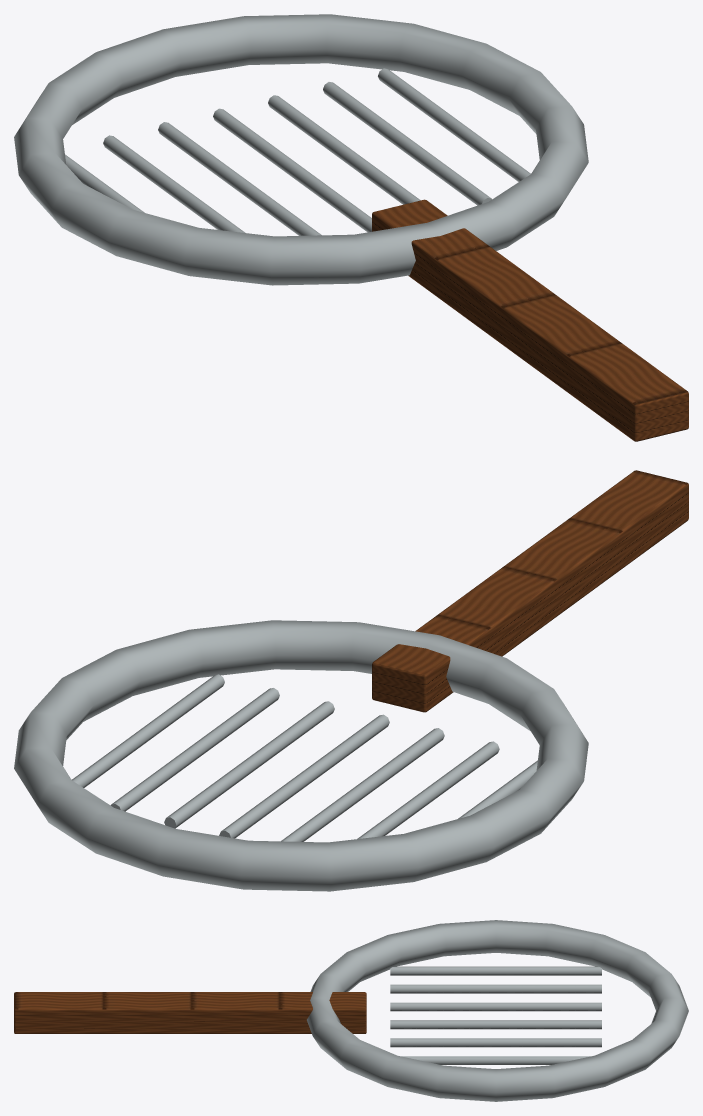
File: survival-food-and-preservation-strainer-855a8e1b__21799.glb
The picture shows the model from 3 angles, top to bottom: view 1: azimuth 30°, elevation 25°; view 2: azimuth 150°, elevation 25°; view 3: azimuth 270°, elevation 25°; orthographic projection. The views are drawn at different scales.
Parts seen in each view (by area): view 1: strainer; view 2: strainer; view 3: strainer.
Part boxes in pixels (<box>): strainer: <box>14,14,688,441</box>; strainer: <box>14,470,688,891</box>; strainer: <box>14,920,688,1101</box>.
Bounding box in the file's own units: 0.164 × 0.0151 × 0.287.
2 materials, 1 textured.
